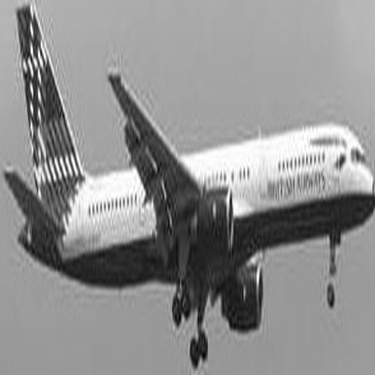airplane: (3, 6, 371, 373)
